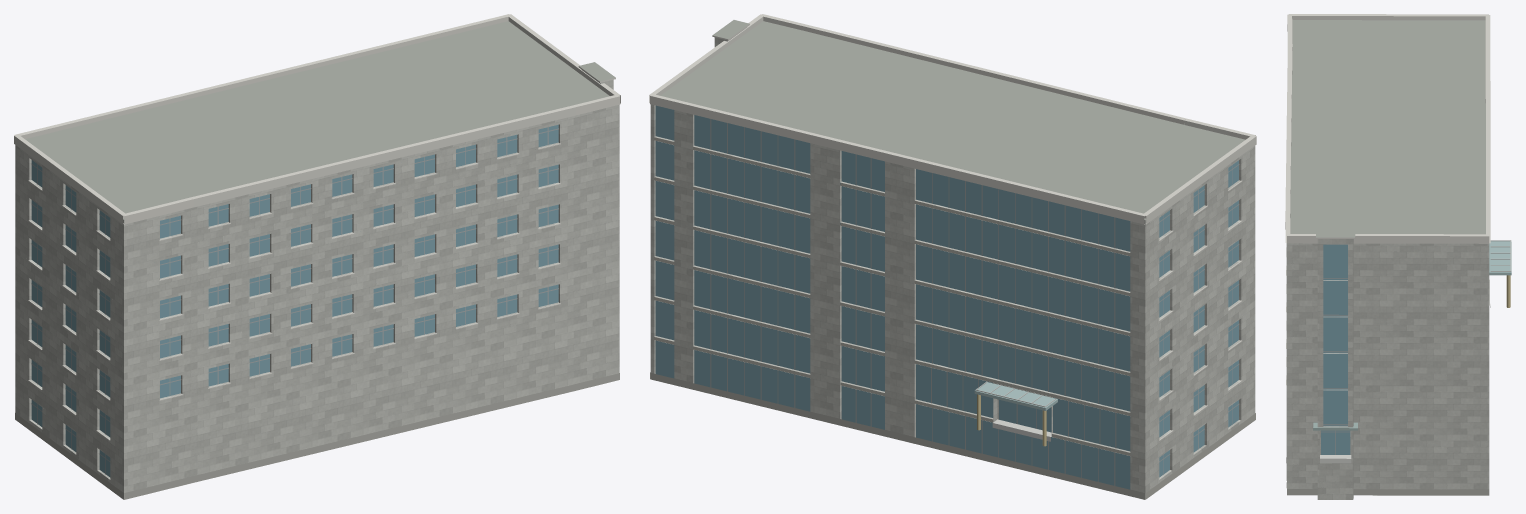
3 views of the same model, side by side, from view 1: azimuth 30°, elevation 25°; view 2: azimuth 150°, elevation 25°; view 3: azimuth 270°, elevation 25° (orthographic). The views are drawn at different scales.
Visible parts, largest first — view 1: changui__wall, changui__roof, changui__glass, changui__trim, changui__base, changui__frame; view 2: changui__glass, changui__wall, changui__roof, changui__trim, changui__spandrel, changui__frame, changui__base, changui__entryCanopyGlass; view 3: changui__wall, changui__roof, changui__trim, changui__glass, changui__base, changui__entryCanopyGlass, changui__entranceThreshold_1, changui__frame.
Boxes of the visible parts, x1,y1,x2,y2 form: changui__wall: [15, 69, 619, 499]; changui__roof: [25, 21, 615, 219]; changui__glass: [31, 124, 558, 477]; changui__trim: [14, 14, 620, 440]; changui__base: [15, 373, 619, 499]; changui__frame: [31, 127, 558, 474]; changui__glass: [655, 105, 1238, 489]; changui__wall: [650, 27, 1255, 499]; changui__roof: [660, 20, 1245, 385]; changui__trim: [649, 14, 1256, 440]; changui__spandrel: [654, 137, 1130, 455]; changui__frame: [710, 119, 1239, 485]; changui__base: [650, 372, 1255, 499]; changui__entryCanopyGlass: [974, 382, 1057, 410]; changui__wall: [1286, 239, 1489, 499]; changui__roof: [1290, 20, 1485, 495]; changui__trim: [1285, 14, 1490, 385]; changui__glass: [1321, 244, 1350, 454]; changui__base: [1286, 457, 1489, 495]; changui__entryCanopyGlass: [1489, 241, 1511, 275]; changui__entranceThreshold_1: [1320, 455, 1351, 463]; changui__frame: [1321, 278, 1349, 454].
Bounding box in the file's own units: 47.94 × 25.92 × 20.19.
14 materials, 1 textured.
